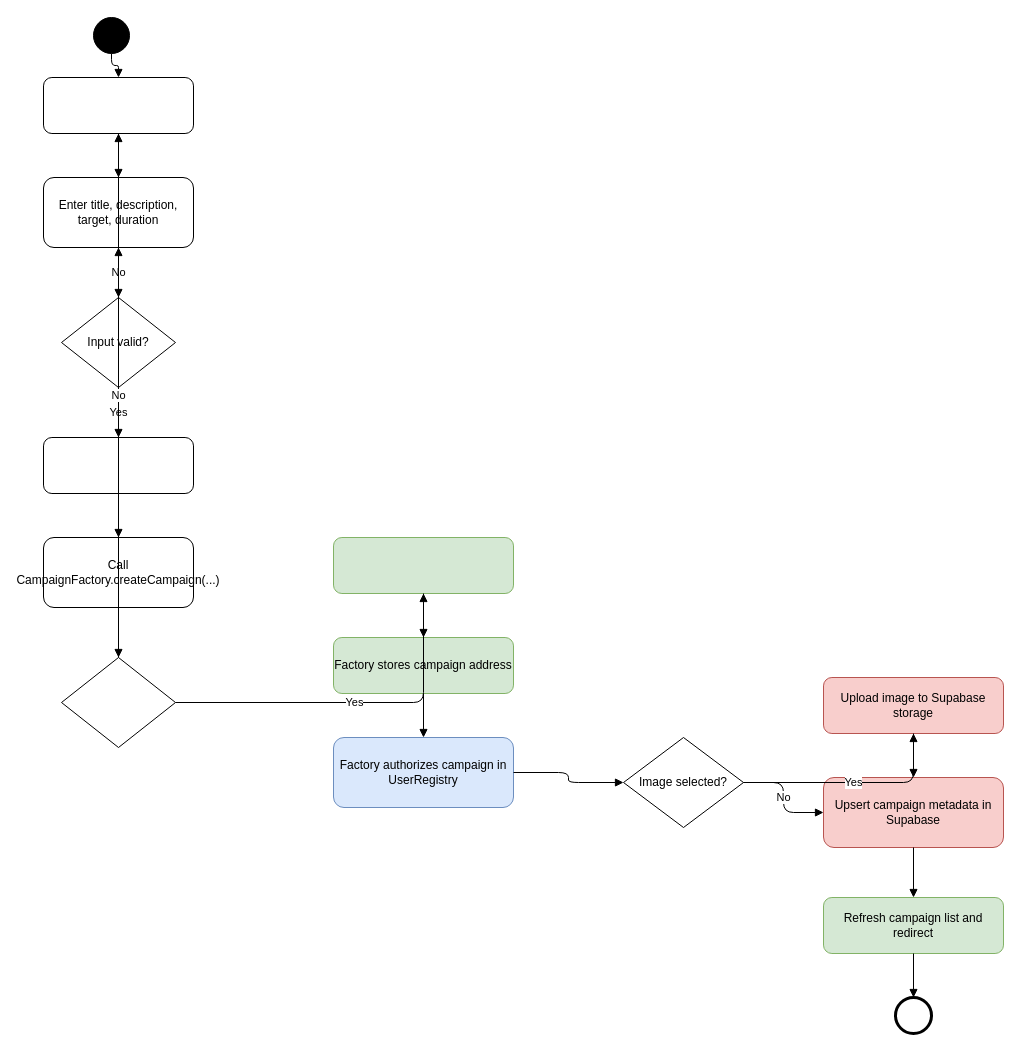
Image size: 1021x1052. Some labels were removed from this diagram. The shapes that lost their labels are listed below. From the top down, each one's box as (x1, y1, x2, y2) in pixels, then its label:
(42, 76, 194, 134): Open create campaign page
(42, 436, 194, 494): Optional: choose image file
(332, 536, 514, 594): Factory deploys Campaign contract
(60, 656, 176, 748): Transaction confirmed?
